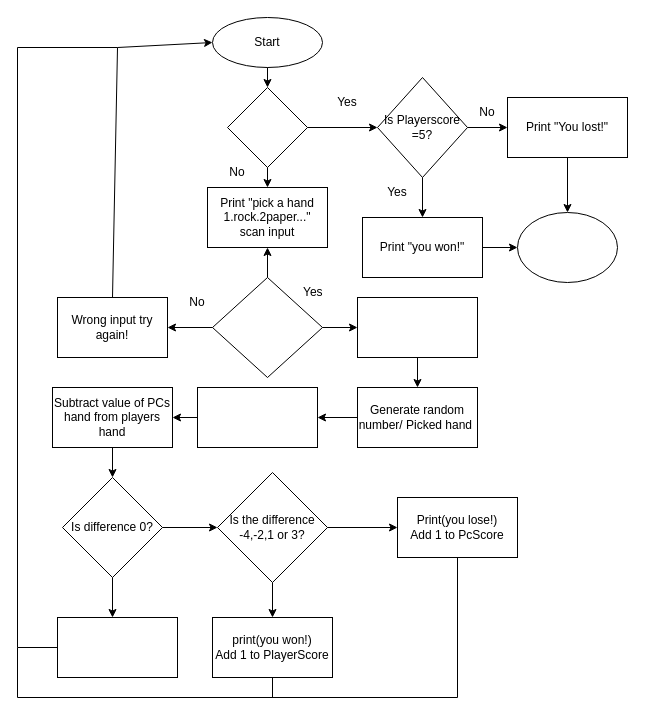
Some shapes in this 645 by 716 pixel diagram are drawn without their labels. Here are the shapes that lost their labels. From the top down, the centre of each, then its label:
[267,127]: Is PlayerScore or Pcscore equal to 5?
[567,247]: END
[267,327]: Is input valid?
[417,327]: Print" you Chose (Hand chosen)
[257,417]: Print "Agent chose (Hand chosen)
[117,647]: Print the round is a tie!
